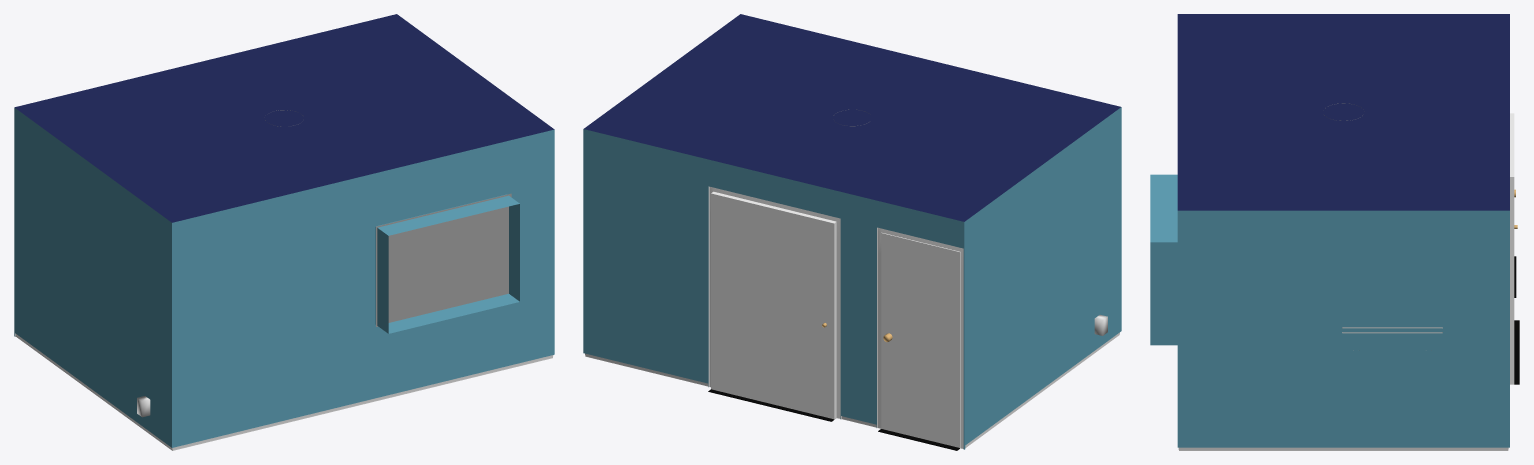
The model's file is KnightBright_Env_Bedroom_Lowpoly (2).fbx.
3 views of the same model, side by side, from view 1: azimuth 30°, elevation 25°; view 2: azimuth 150°, elevation 25°; view 3: azimuth 270°, elevation 25° (orthographic). The views are drawn at different scales.
Parts seen in each view (by area): view 1: KnightBright_Room, KnightBright_Curtains; view 2: KnightBright_Room; view 3: KnightBright_Room, KnightBright_Shelf.
Boxes of the visible parts, bbox=[...] form: KnightBright_Room: bbox=[14, 14, 554, 450]; KnightBright_Curtains: bbox=[376, 193, 511, 326]; KnightBright_Room: bbox=[583, 14, 1121, 450]; KnightBright_Room: bbox=[1150, 14, 1519, 450]; KnightBright_Shelf: bbox=[1342, 327, 1442, 350].
Bounding box in the file's own units: 1436 × 806 × 1111.
